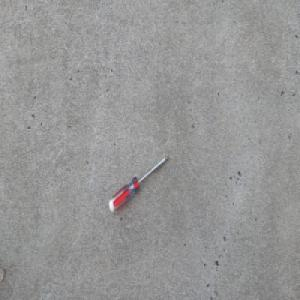Screwdriver: (108, 154, 169, 213)
